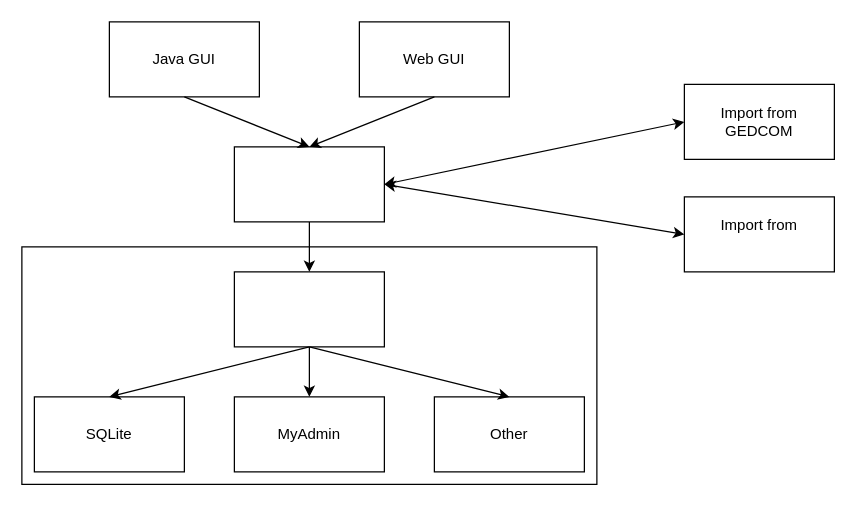
This 856x506 diagram has some shape labels left out. Each missing label, with the box of its shape:
Java Controller: (233, 146, 384, 222)
Model: (233, 271, 384, 347)
